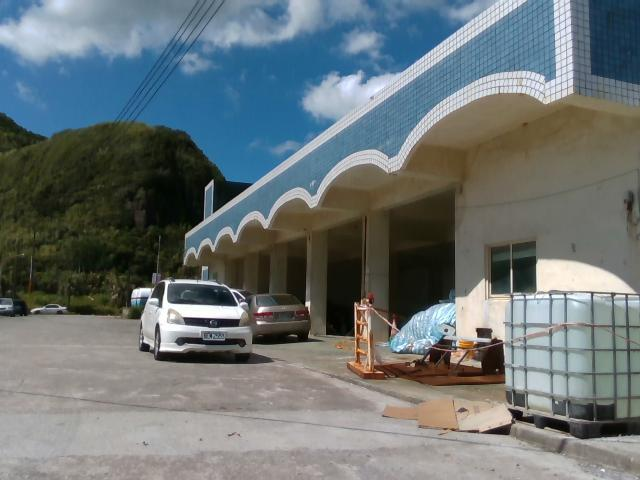pollute: (503, 292, 639, 441), (373, 333, 501, 389), (381, 395, 513, 435), (386, 297, 455, 356)
